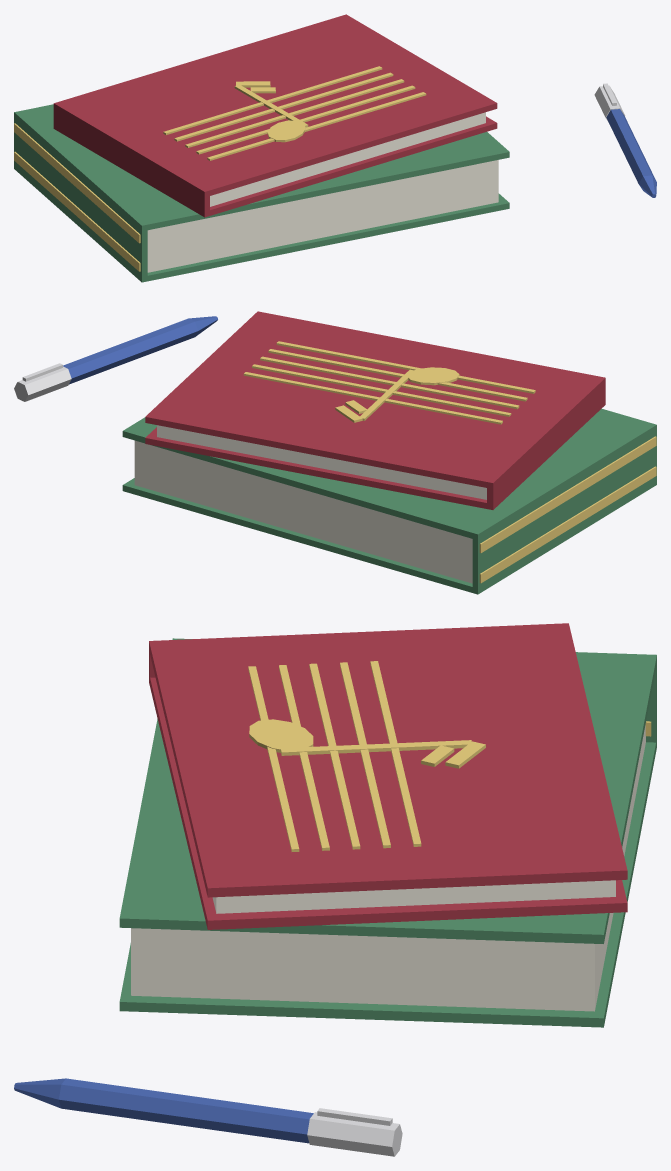
The model's file is book_stack_music.glb.
3 views of the same model, one above another, from view 1: azimuth 30°, elevation 25°; view 2: azimuth 150°, elevation 25°; view 3: azimuth 270°, elevation 25° (orthographic). The views are drawn at different scales.
Parts seen in each view (by area): view 1: book_stack_music; view 2: book_stack_music; view 3: book_stack_music.
Part boxes in pixels (bbox=[...]): book_stack_music: bbox=[14, 14, 656, 282]; book_stack_music: bbox=[14, 311, 656, 594]; book_stack_music: bbox=[14, 623, 656, 1156].
Size of the model in its own units: 0.3986 by 0.0595 by 0.2515.
